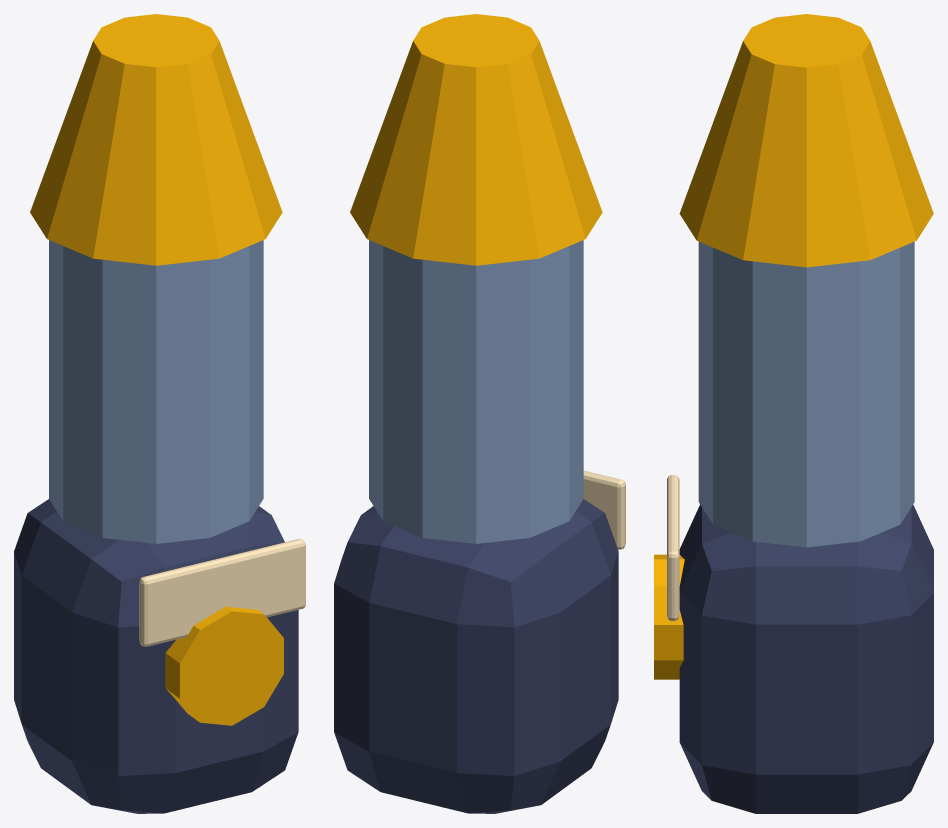
File: cafe_grinder.glb
3 views of the same model, side by side, from view 1: azimuth 30°, elevation 25°; view 2: azimuth 150°, elevation 25°; view 3: azimuth 270°, elevation 25° (orthographic).
Parts seen in each view (by area): view 1: Cube.001; view 2: Cube.001; view 3: Cube.001.
Part boxes in pixels (<box>): Cube.001: <box>14,14,305,813</box>; Cube.001: <box>334,14,625,813</box>; Cube.001: <box>654,14,933,813</box>.
Size of the model in its own units: 0.4 by 1.3 by 0.44.
